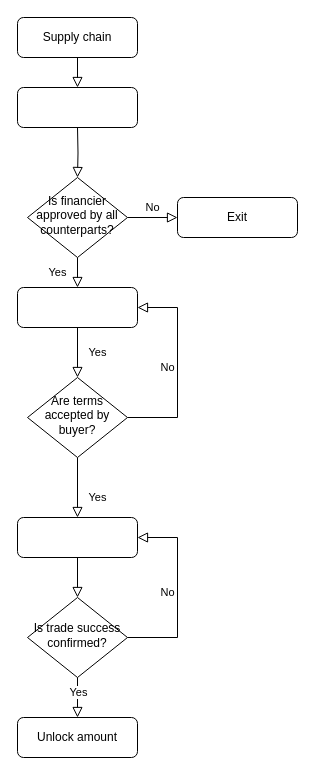
Some shapes in this 315 by 775 pixel diagram are drawn without their labels. The box of each missing label's shape, as (x1, y1, x2, y2) in pixels:
Add financier to collab space: (16, 86, 138, 128)
Have financiers bid and propose conditions: (16, 286, 138, 328)
Lock amount: (16, 516, 138, 558)
